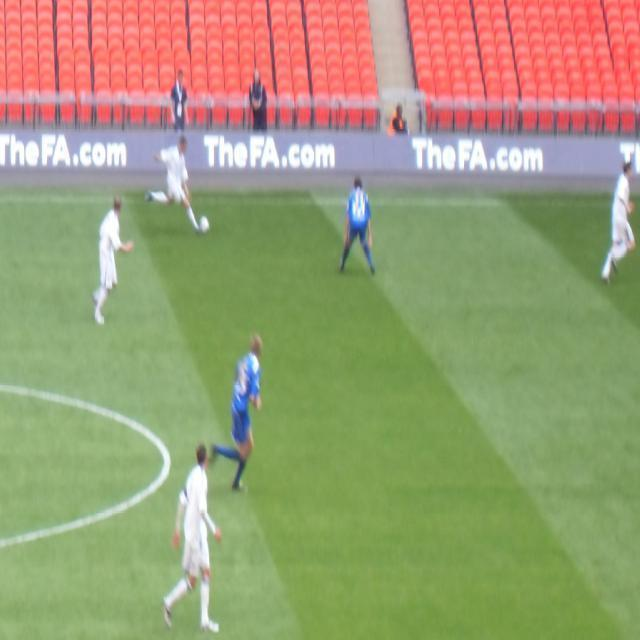ball: (200, 214, 209, 233)
